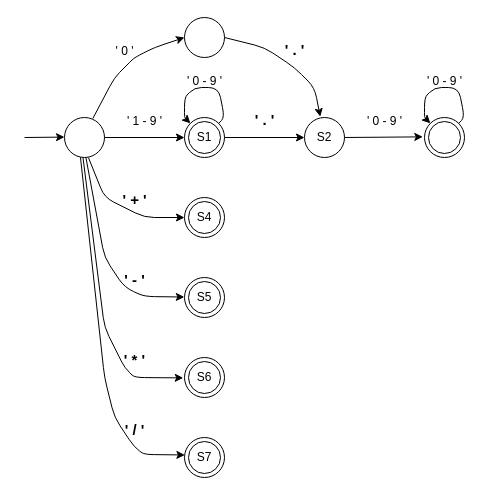
The diagram is 492 pixels wide and 495 high, and some of its shapes have lost their labels. Here are the shapes that lost their labels. From the top down, the centre of each, then its label:
At pixel 204 37: "S8".
At pixel 84 137: "S0".
At pixel 444 137: "S3".
